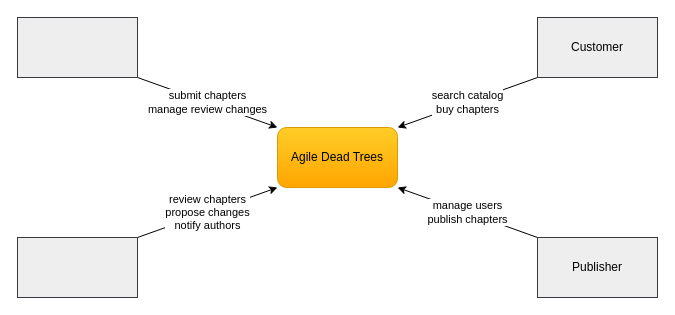
Some shapes in this 675 by 315 pixel diagram are drawn without their labels. Here are the shapes that lost their labels. From the top down, the centre of each, then its label:
At (77,47): "Author".
At (77,267): "Reviewer".
